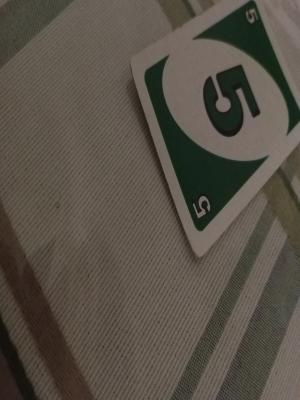green: (155, 52, 291, 151)
num_5: (189, 186, 213, 223), (243, 8, 261, 25)
